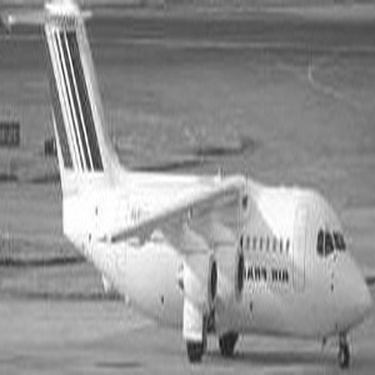airplane: (3, 4, 370, 372)
